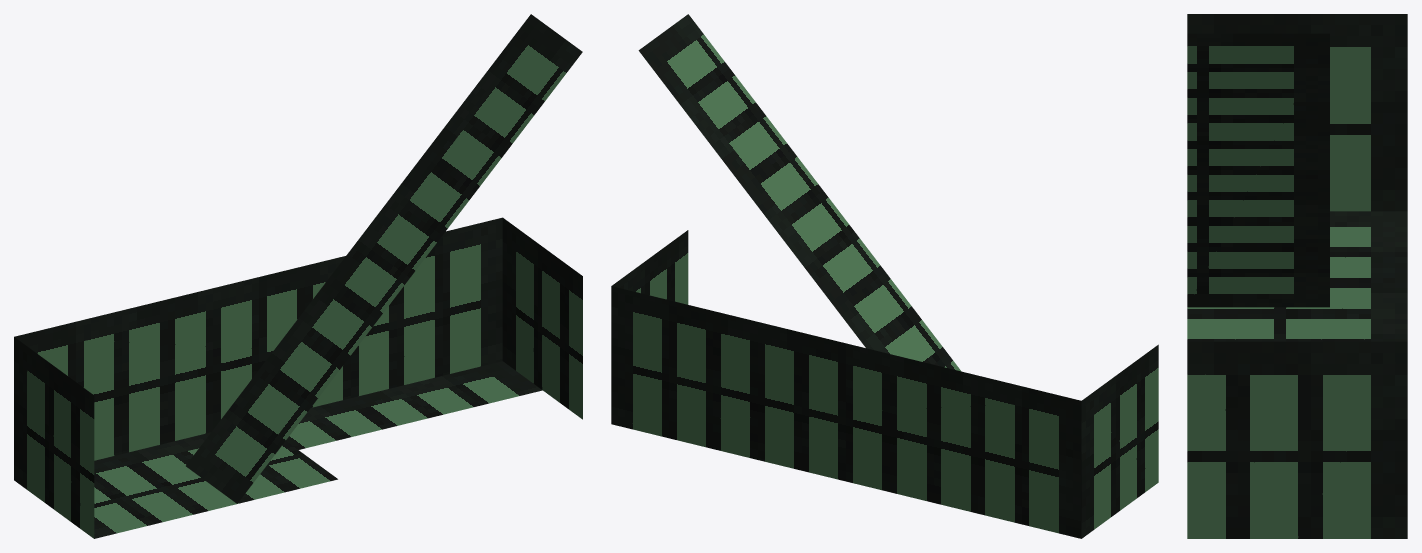
3 renders of one model, left to right at view 1: azimuth 30°, elevation 25°; view 2: azimuth 150°, elevation 25°; view 3: azimuth 270°, elevation 25°, orthographic. The views are drawn at different scales.
Visible parts, largest first — view 1: balcony-ladder-bottom; view 2: balcony-ladder-bottom; view 3: balcony-ladder-bottom.
Part boxes in pixels (<box>): balcony-ladder-bottom: <box>14,14,582,538</box>; balcony-ladder-bottom: <box>611,14,1158,538</box>; balcony-ladder-bottom: <box>1187,14,1407,538</box>.
Bounding box in the file's own units: 1 × 0.7192 × 0.2837.
Materials: 1 (1 with a texture image).
